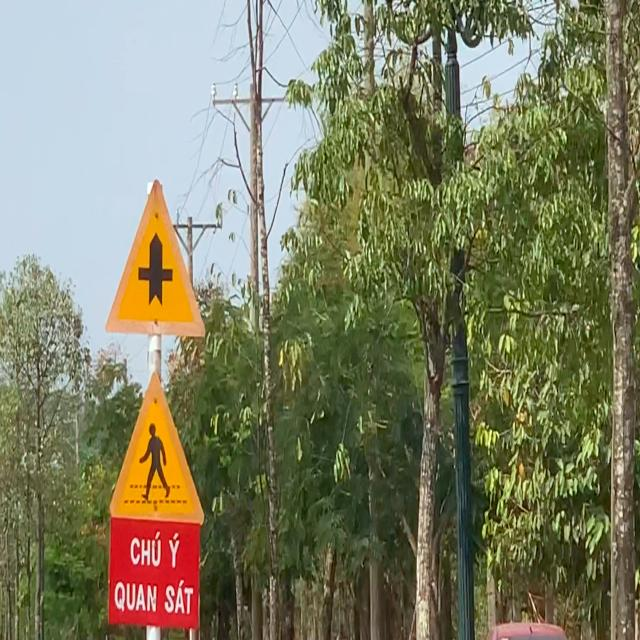Giao voi duong khong uu tien: (96, 160, 210, 352)
Nguoi di bo cat ngang: (100, 360, 211, 532)
